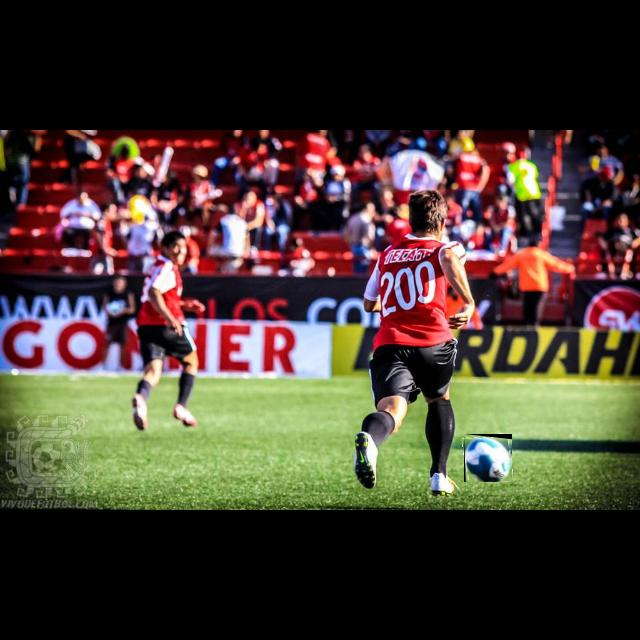Football: (464, 434, 512, 482)
